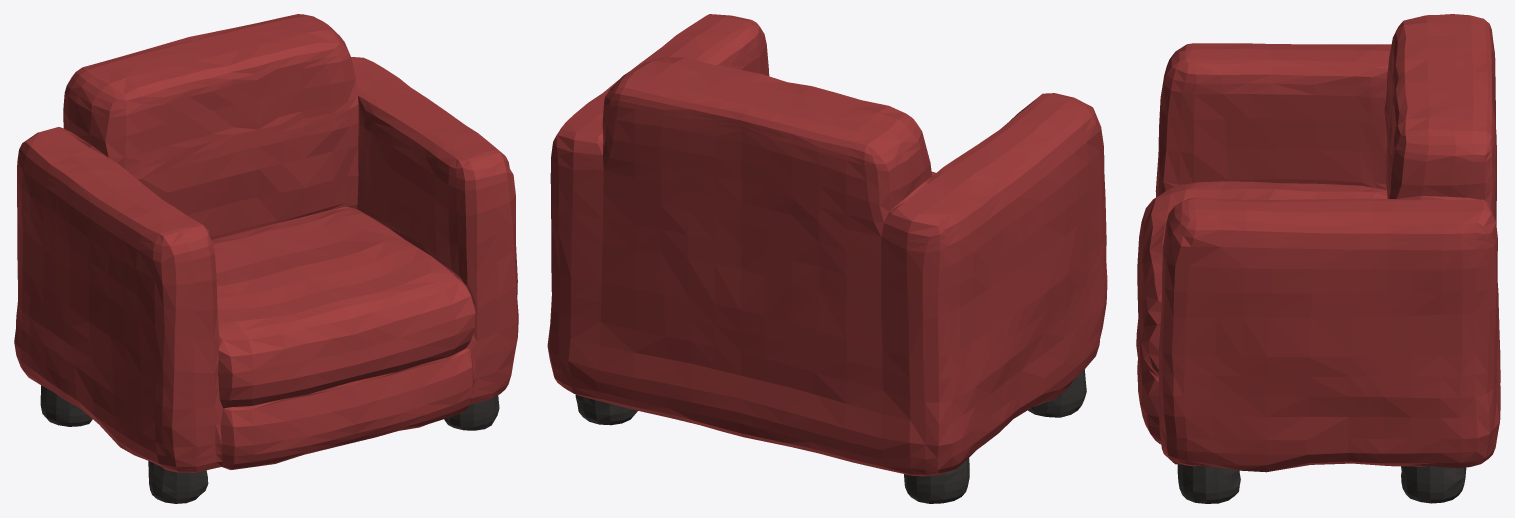
The model's file is Sillón.glb.
The picture shows the model from 3 angles, left to right: view 1: azimuth 30°, elevation 25°; view 2: azimuth 150°, elevation 25°; view 3: azimuth 270°, elevation 25°; orthographic projection. The views are drawn at different scales.
Bounding box in the file's own units: 0.7703 × 0.6407 × 0.6108.
1 material, 1 textured.
